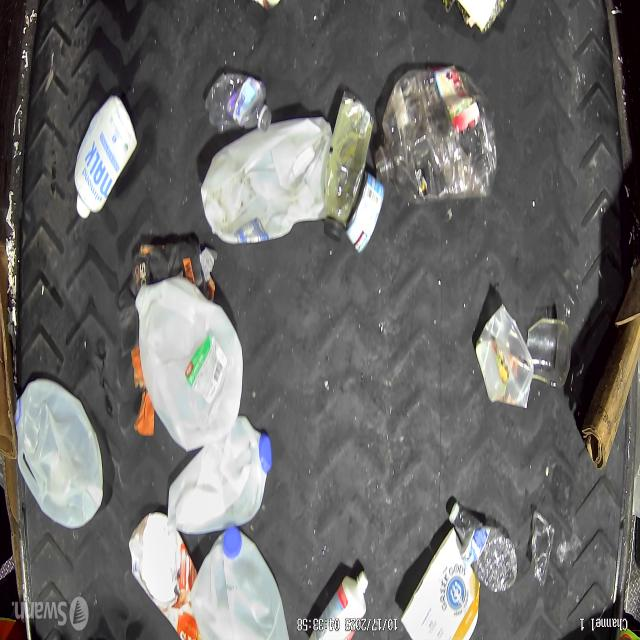milk_jug: (134, 278, 243, 452), (202, 116, 335, 243), (13, 378, 105, 528), (165, 418, 272, 538), (189, 526, 293, 640)
plastic_bottle: (374, 63, 498, 207), (320, 92, 372, 245), (445, 502, 519, 594)
